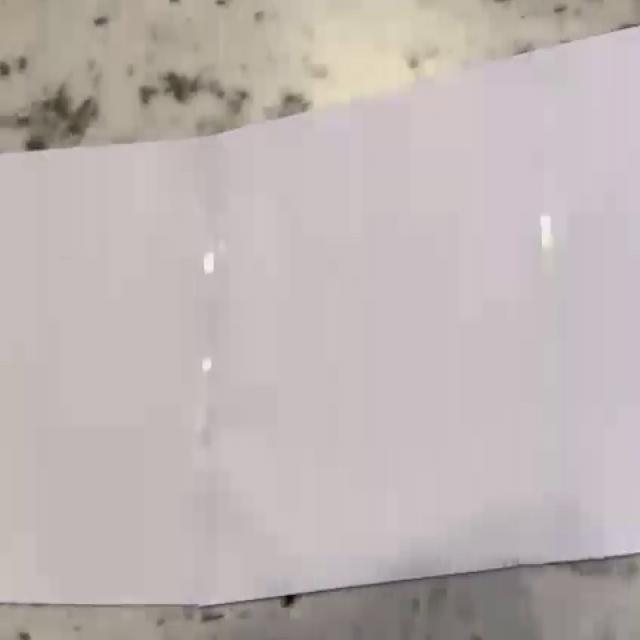road: (0, 25, 640, 604)
